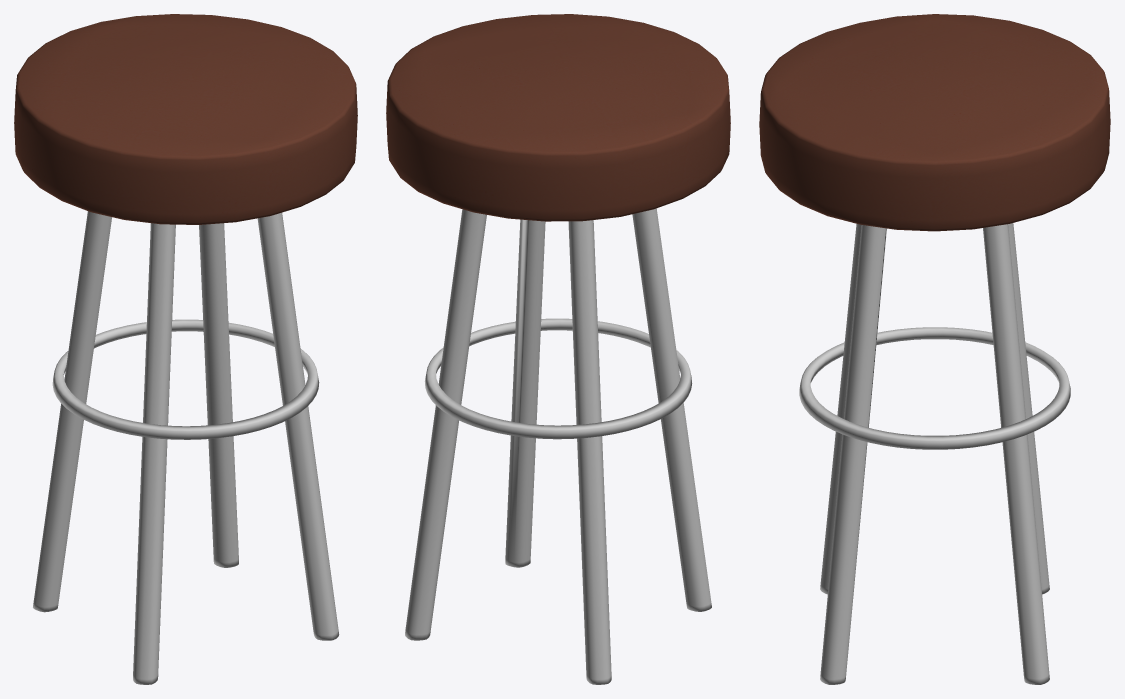
The model's file is bar-stool.fbx.
3 renders of one model, left to right at view 1: azimuth 30°, elevation 25°; view 2: azimuth 150°, elevation 25°; view 3: azimuth 270°, elevation 25°, orthographic.
Parts seen in each view (by area): view 1: stool; view 2: stool; view 3: stool.
Boxes of the visible parts, box(x1,y1,x2,y2) form: stool: box(14, 14, 357, 684); stool: box(386, 14, 730, 684); stool: box(759, 14, 1110, 684).
Bounding box in the file's own units: 77.81 × 136 × 77.81.
